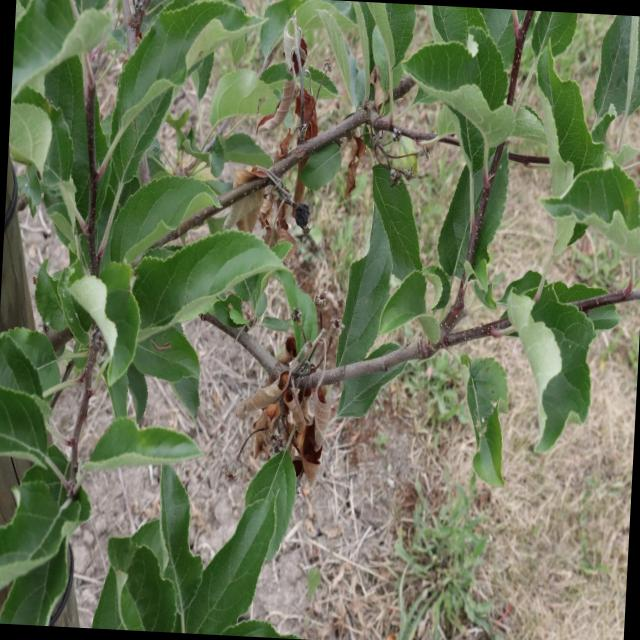-FireBlight-: (238, 343, 322, 460), (229, 167, 299, 243), (273, 71, 330, 141), (335, 136, 375, 198)
